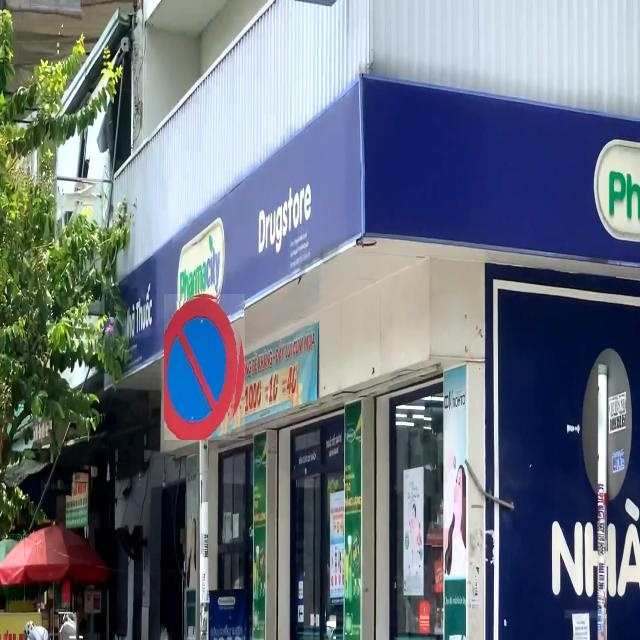bien_cam: (164, 294, 245, 440)
